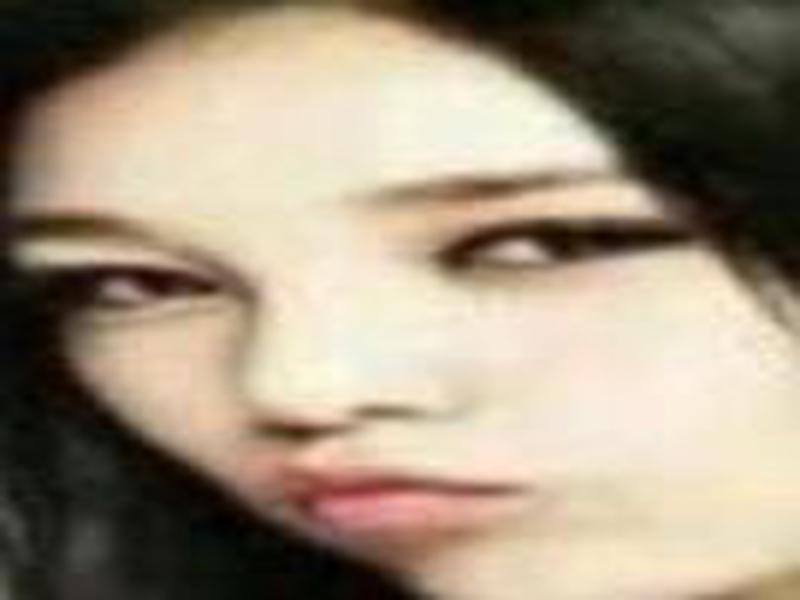without_mask: (14, 87, 800, 595)
